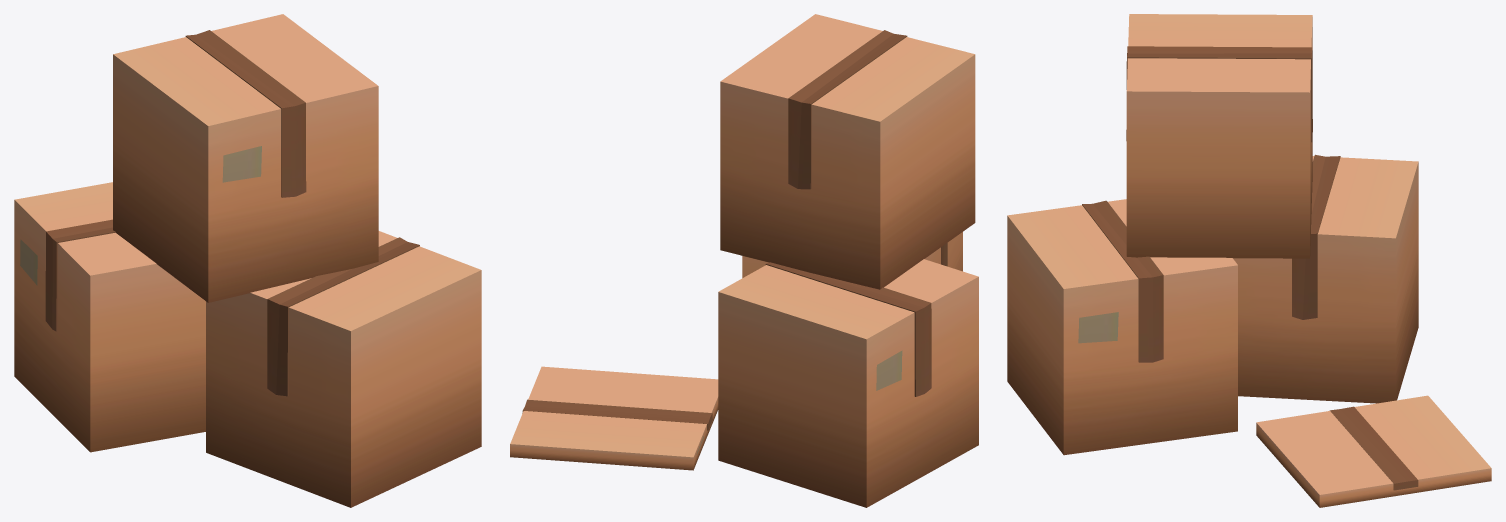
The model's file is box-pile.glb.
3 renders of one model, left to right at view 1: azimuth 30°, elevation 25°; view 2: azimuth 150°, elevation 25°; view 3: azimuth 270°, elevation 25°, orthographic. The views are drawn at different scales.
Visible parts, largest first — view 1: box_pile; view 2: box_pile; view 3: box_pile.
Part boxes in pixels (x1,y1,x2,y2): box_pile: (14,14,481,507); box_pile: (510,14,978,507); box_pile: (1007,14,1491,507).
Size of the model in its own units: 2.45 by 2 by 2.64.
Materials: 1 (1 with a texture image).
